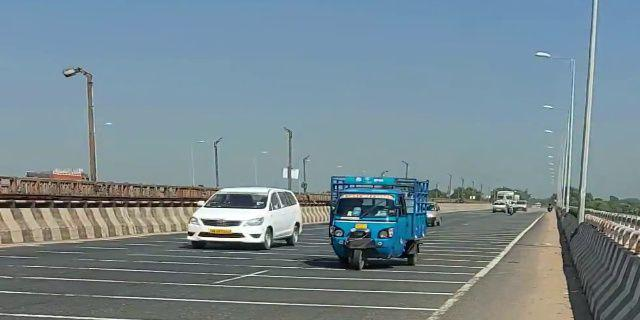Autorickshaw: (326, 172, 429, 274)
Car: (184, 182, 304, 249)
